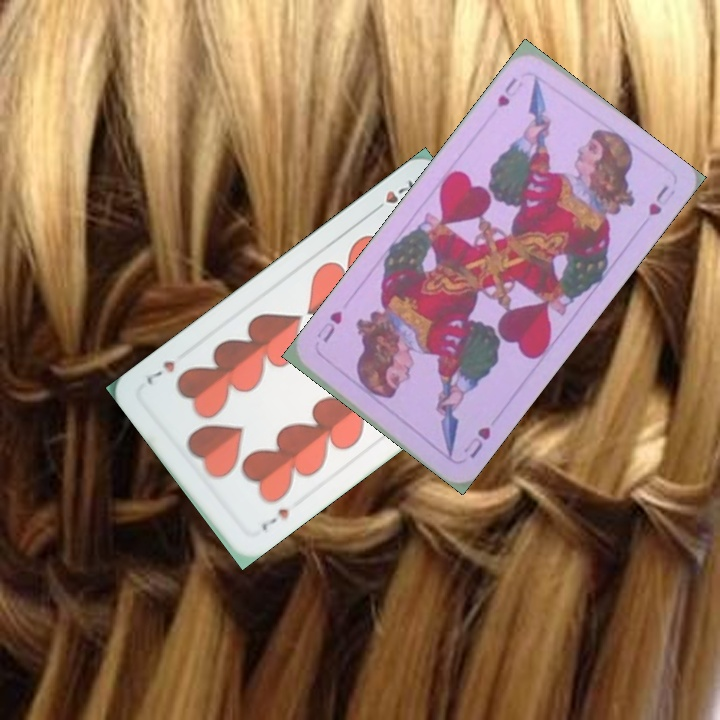H7: (367, 176, 418, 217), (258, 504, 292, 534)
HU: (459, 422, 494, 462), (493, 73, 526, 111)
